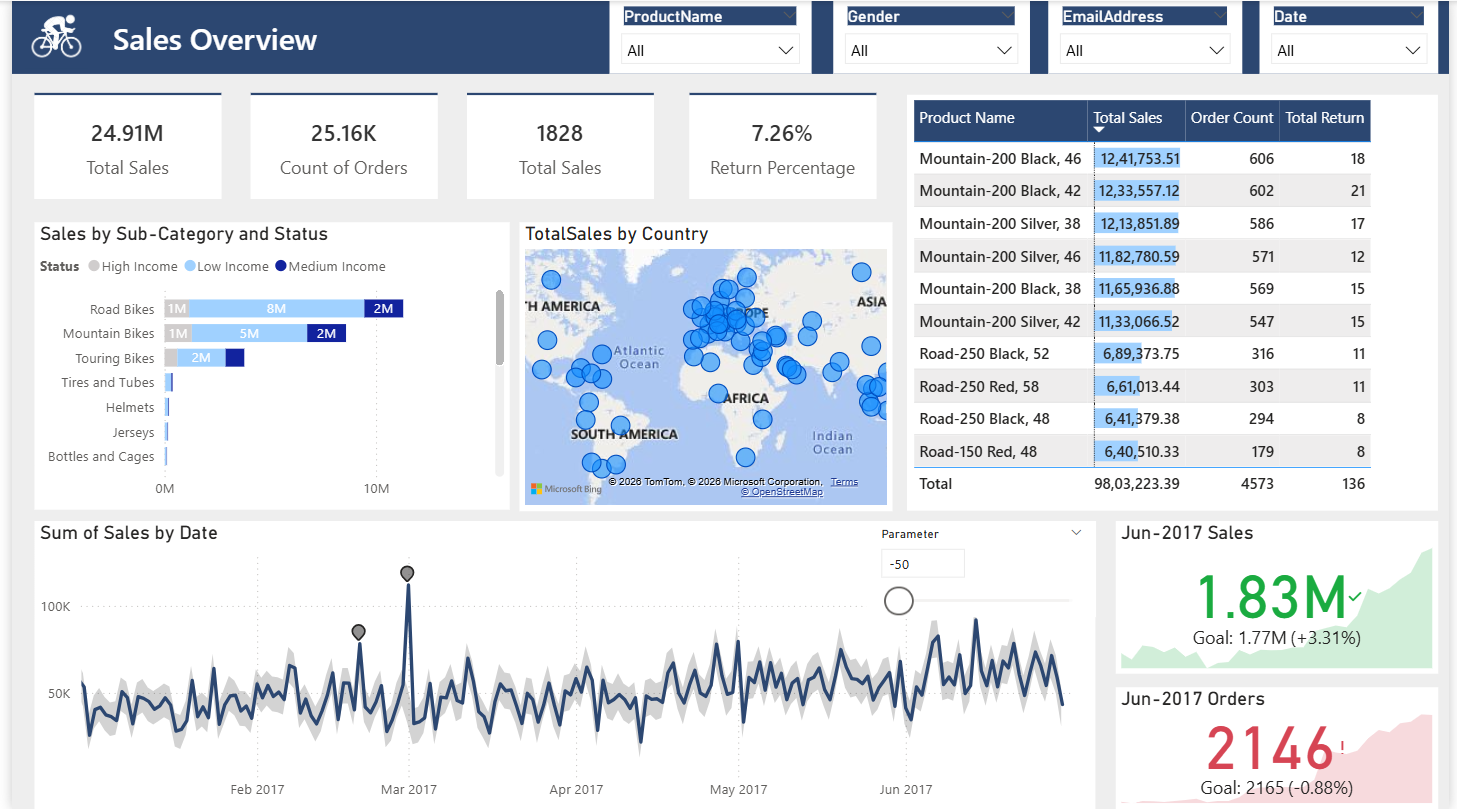

The page's visual inventory and layout, read from the dashboard file:
{"tool":"powerbi","page":{"name":"Overview","canvas":[1280,720],"ordinal":0},"visuals":[{"type":"shape","box":[0,0,1280,65.1],"z":0},{"type":"image","box":[0,0,79.6,65.1],"z":1000},{"type":"card","fields":{"Values":["Measure table.TotalSales"]},"box":[20.5,83.2,166.5,92.9],"z":2000},{"type":"card","fields":{"Values":["Count(Final Sales.OrderNumber)"]},"box":[212.3,83.2,166.5,92.9],"z":3000},{"type":"card","fields":{"Values":["Sum(Returns[1].ReturnQuantity)"]},"box":[405.4,83.2,166.5,92.9],"z":4000},{"type":"card","fields":{"Values":["Measure table.%return"]},"box":[603.2,83.2,166.5,92.9],"z":5000},{"type":"shape","box":[20.5,70,166.5,25.3],"z":6000},{"type":"shape","box":[212.3,70,166.5,25.3],"z":7000},{"type":"shape","box":[405.4,70,166.5,25.3],"z":8000},{"type":"shape","box":[603.2,70,166.5,25.3],"z":9000},{"type":"tableEx","fields":{"Values":["Products[1].ProductName","Measure table.TotalSales","Final Sales.OrderNumber","Sum(Returns[1].ReturnQuantity)"]},"box":[797.5,83.2,472.9,370.4],"z":10000},{"type":"barChart","title":"Sales by Sub-Category and Status","fields":{"Category":["Product_Subcategories[1].SubcategoryName"],"Y":["Measure table.TotalSales"],"Series":["Customers_Table.Status"]},"box":[20.5,196.6,423.5,255.8],"z":11000},{"type":"lineChart","fields":{"Y":["Sum(Final Sales.Sales)"],"Category":["DateTable.Date"]},"box":[20.5,463.3,944.6,257],"z":12000},{"type":"kpi","fields":{"TrendLine":["DateTable.YearMonth"],"Indicator":["Measure table.TotalSales"],"Goal":["Measure table.prevmonthsales"]},"box":[983.2,479,287.1,120.6],"z":13000},{"type":"kpi","fields":{"TrendLine":["DateTable.YearMonth"],"Goal":["Measure table.prevmonthorders"],"Indicator":["Count(Final Sales.OrderNumber)"]},"box":[983.2,611.7,287.1,108.6],"z":14000},{"type":"slicer","fields":{"Values":["Products[1].ProductName"]},"box":[532,0,179.8,65.1],"z":15000},{"type":"slicer","fields":{"Values":["Customers_Table.Gender"]},"box":[731.1,0,174.9,65.1],"z":16000},{"type":"slicer","fields":{"Values":["Customers_Table.EmailAddress"]},"box":[922.9,0,172.5,65.1],"z":17000},{"type":"slicer","fields":{"Values":["DateTable.Date"]},"box":[1111.1,0,159.3,65.1],"z":18000},{"type":"map","fields":{"Category":["Map.Country"],"Size":["Measure table.TotalSales"]},"box":[452.4,196.6,331.8,257],"z":19000},{"type":"slicer","fields":{"Values":["Parameter.Parameter"]},"box":[761.3,463.3,203.9,85.7],"z":20000}]}

Visuals, with their boxes in screenshot pixels (x1, y1, x2, y2), scaled from the page's 1280x720 canvas onto the 1457x809 screenshot:
shape: 0:0:1456:73
image: 0:0:91:73
card - Measure table.TotalSales: 23:93:213:198
card - Count(Final Sales.OrderNumber): 242:93:431:198
card - Sum(Returns[1].ReturnQuantity): 461:93:651:198
card - Measure table.%return: 687:93:876:198
shape: 23:79:213:107
shape: 242:79:431:107
shape: 461:79:651:107
shape: 687:79:876:107
tableEx - Products[1].ProductName x Measure table.TotalSales: 908:93:1446:510
"Sales by Sub-Category and Status" barChart: 23:221:505:508
lineChart - Sum(Final Sales.Sales) x DateTable.Date: 23:521:1099:808
kpi - DateTable.YearMonth x Measure table.TotalSales: 1119:538:1446:674
kpi - DateTable.YearMonth x Measure table.prevmonthorders: 1119:687:1446:808
slicer - Products[1].ProductName: 606:0:810:73
slicer - Customers_Table.Gender: 832:0:1031:73
slicer - Customers_Table.EmailAddress: 1051:0:1247:73
slicer - DateTable.Date: 1265:0:1446:73
map - Map.Country x Measure table.TotalSales: 515:221:893:510
slicer - Parameter.Parameter: 867:521:1099:617
